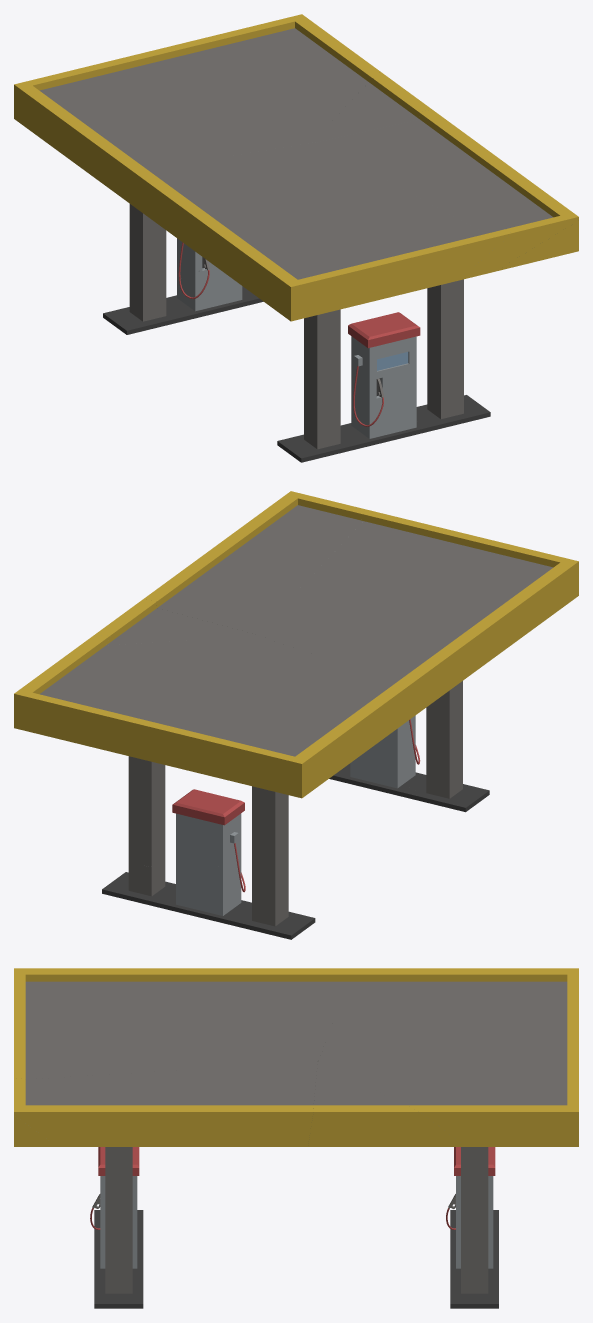
File: Gas_Station_01 Fracture.fbx
3 renders of one model, top to bottom at view 1: azimuth 30°, elevation 25°; view 2: azimuth 150°, elevation 25°; view 3: azimuth 270°, elevation 25°, orthographic. The views are drawn at different scales.
Visible parts, largest first — view 1: Gas_Station_01_cell.008, Gas_Station_01_cell, Gas_Station_01_cell.006, Gas_Station_01_cell.014, Gas_Station_01_cell.010, Gas_Station_01_cell.009, Gas_Station_01_cell.003, Gas_Station_01_cell.004, Gas_Station_01_cell.007, Gas_Station_01_cell.012, Gas_Station_01_cell.001, Gas_Station_01_cell.005; view 2: Gas_Station_01_cell, Gas_Station_01_cell.008, Gas_Station_01_cell.006, Gas_Station_01_cell.010, Gas_Station_01_cell.007, Gas_Station_01_cell.004, Gas_Station_01_cell.001, Gas_Station_01_cell.009, Gas_Station_01_cell.013; view 3: Gas_Station_01_cell, Gas_Station_01_cell.008, Gas_Station_01_cell.006, Gas_Station_01_cell.010, Gas_Station_01_cell.014, Gas_Station_01_cell.001, Gas_Station_01_cell.007, Gas_Station_01_cell.003.
Part boxes in pixels (box(x1,y1,x2,y2)): Gas_Station_01_cell.008: box(124, 142, 511, 324); Gas_Station_01_cell: box(14, 14, 379, 267); Gas_Station_01_cell.006: box(304, 109, 578, 385); Gas_Station_01_cell.014: box(314, 220, 578, 412); Gas_Station_01_cell.010: box(165, 71, 431, 272); Gas_Station_01_cell.009: box(277, 398, 388, 462); Gas_Station_01_cell.003: box(365, 400, 490, 441); Gas_Station_01_cell.004: box(103, 258, 186, 334); Gas_Station_01_cell.007: box(304, 368, 475, 430); Gas_Station_01_cell.012: box(136, 295, 263, 332); Gas_Station_01_cell.001: box(191, 268, 259, 299); Gas_Station_01_cell.005: box(135, 263, 184, 303); Gas_Station_01_cell: box(14, 635, 418, 871); Gas_Station_01_cell.008: box(256, 507, 578, 712); Gas_Station_01_cell.006: box(144, 491, 462, 740); Gas_Station_01_cell.010: box(93, 598, 258, 866); Gas_Station_01_cell.007: box(329, 731, 462, 801); Gas_Station_01_cell.004: box(190, 869, 315, 939); Gas_Station_01_cell.001: box(102, 855, 245, 907); Gas_Station_01_cell.009: box(403, 739, 489, 812); Gas_Station_01_cell.013: box(158, 862, 241, 914); Gas_Station_01_cell: box(319, 968, 578, 1187); Gas_Station_01_cell.008: box(14, 968, 353, 1079); Gas_Station_01_cell.006: box(14, 1062, 317, 1190); Gas_Station_01_cell.010: box(308, 1060, 493, 1265); Gas_Station_01_cell.014: box(14, 1115, 137, 1307); Gas_Station_01_cell.001: box(446, 1210, 498, 1308); Gas_Station_01_cell.007: box(117, 1228, 143, 1308); Gas_Station_01_cell.003: box(90, 1214, 119, 1308).
Size of the model in its own units: 530 by 381 by 882.
